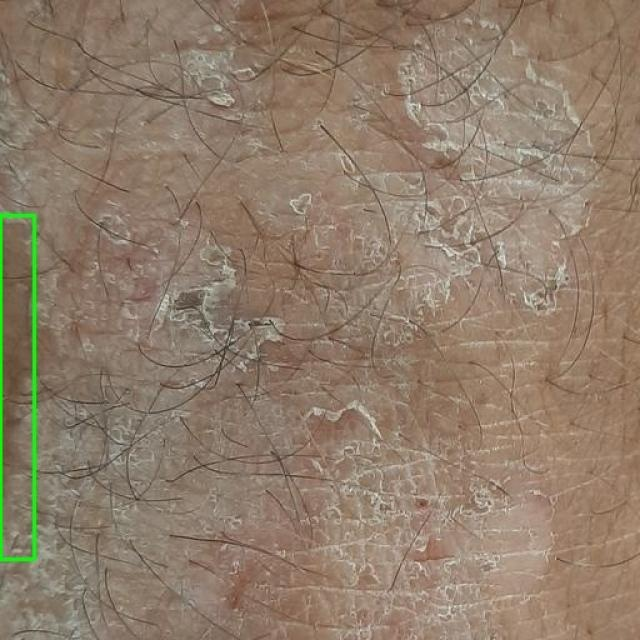Tinea Corporis: (0, 215, 34, 559)
